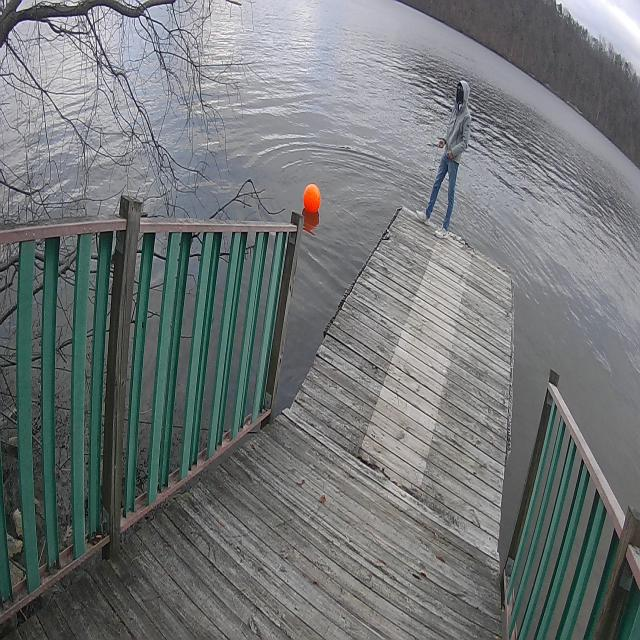Buoy: (302, 173, 323, 226)
